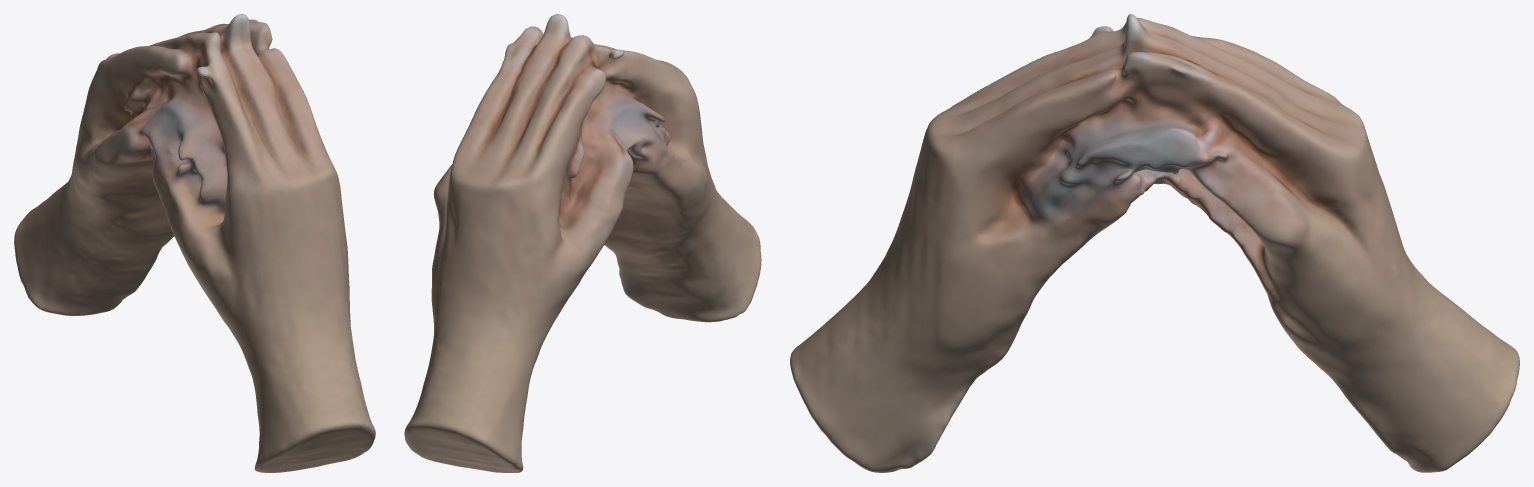
File: 539b5e30c661_hands_connecting_ea.fbx
3 renders of one model, left to right at view 1: azimuth 30°, elevation 25°; view 2: azimuth 150°, elevation 25°; view 3: azimuth 270°, elevation 25°, orthographic. The views are drawn at different scales.
Parts seen in each view (by area): view 1: high_poly; view 2: high_poly; view 3: high_poly.
Boxes of the visible parts, x1,y1,x2,y2 form: high_poly: (14,14,375,472); high_poly: (404,14,761,472); high_poly: (790,14,1519,472).
Size of the model in its own units: 32.18 by 69.96 by 100.
